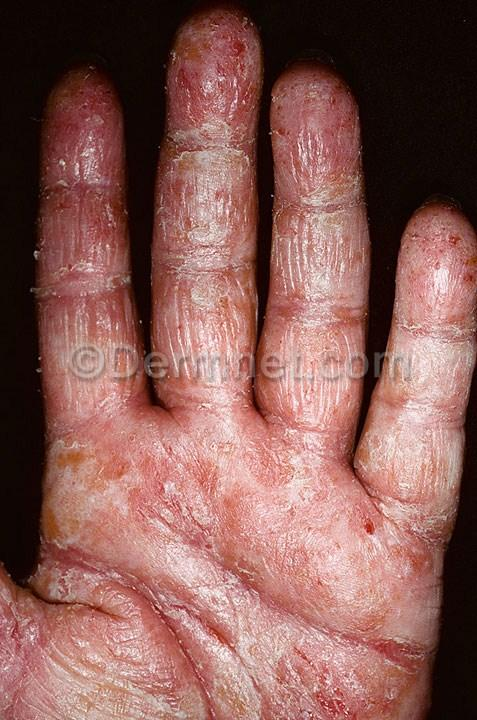Eczema: (45, 500, 453, 719), (45, 381, 469, 496), (163, 0, 266, 358), (272, 63, 372, 348), (31, 210, 134, 341), (36, 73, 127, 201), (406, 193, 477, 353), (2, 566, 39, 720)
